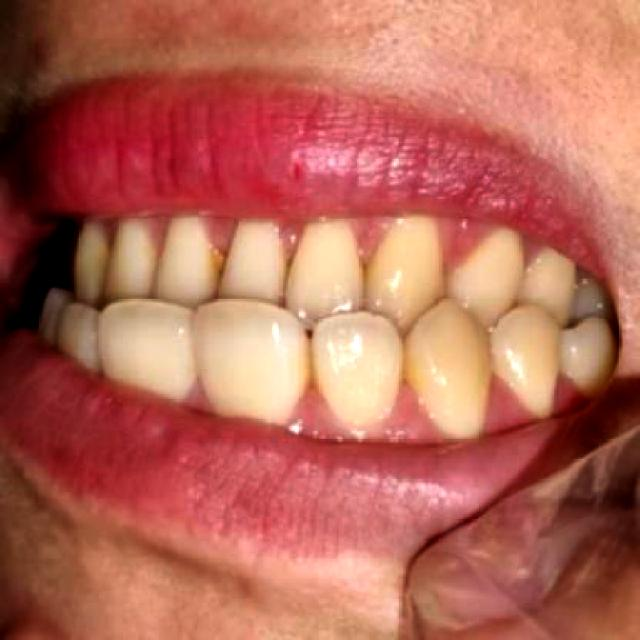Plaque: (271, 214, 318, 276), (204, 202, 242, 269)
